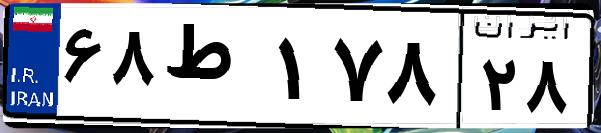1: (270, 28, 330, 110)
2: (475, 38, 525, 113)
6: (57, 26, 110, 100)
7: (330, 28, 385, 110)
8: (385, 28, 445, 110), (525, 38, 570, 115), (110, 28, 158, 98)
ط: (158, 20, 270, 120)
